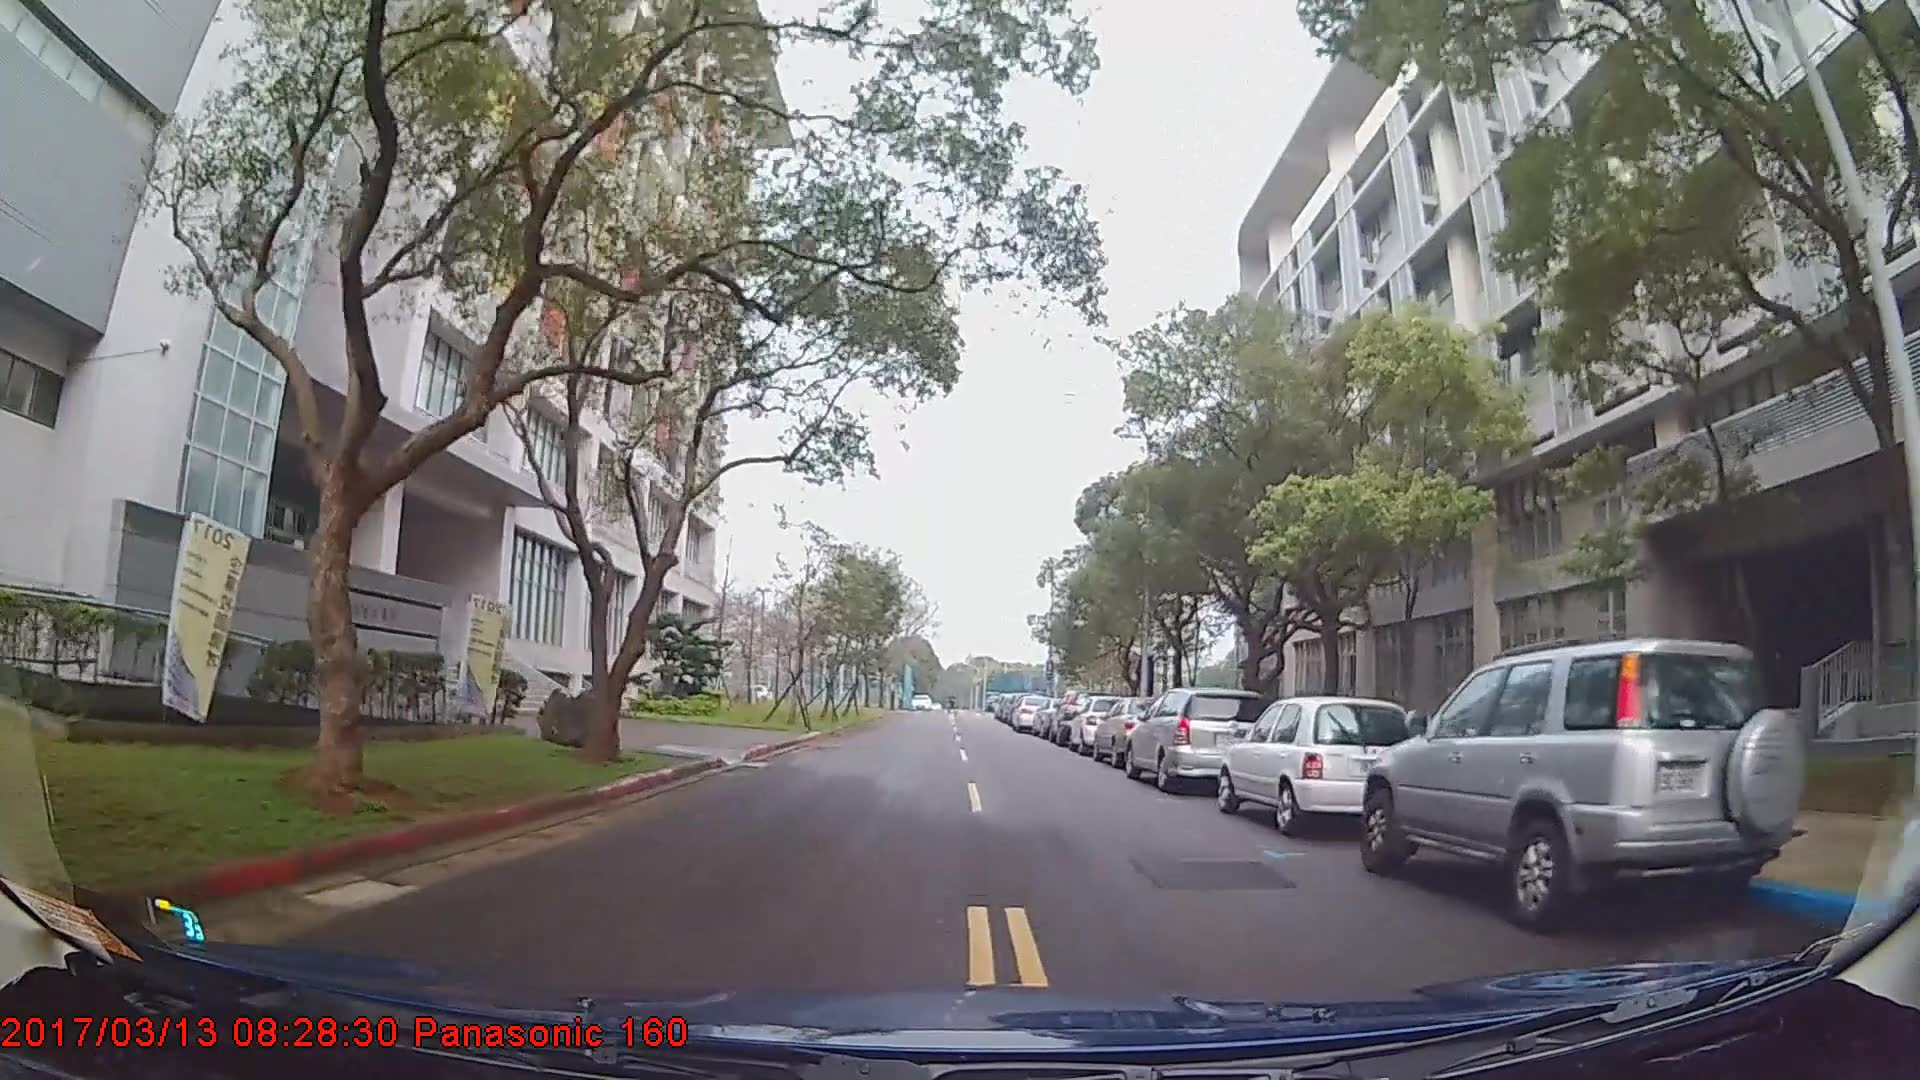vehicle: (1358, 633, 1807, 932), (1217, 694, 1422, 836), (1120, 684, 1271, 791), (1091, 692, 1178, 767), (1007, 691, 1054, 732)
